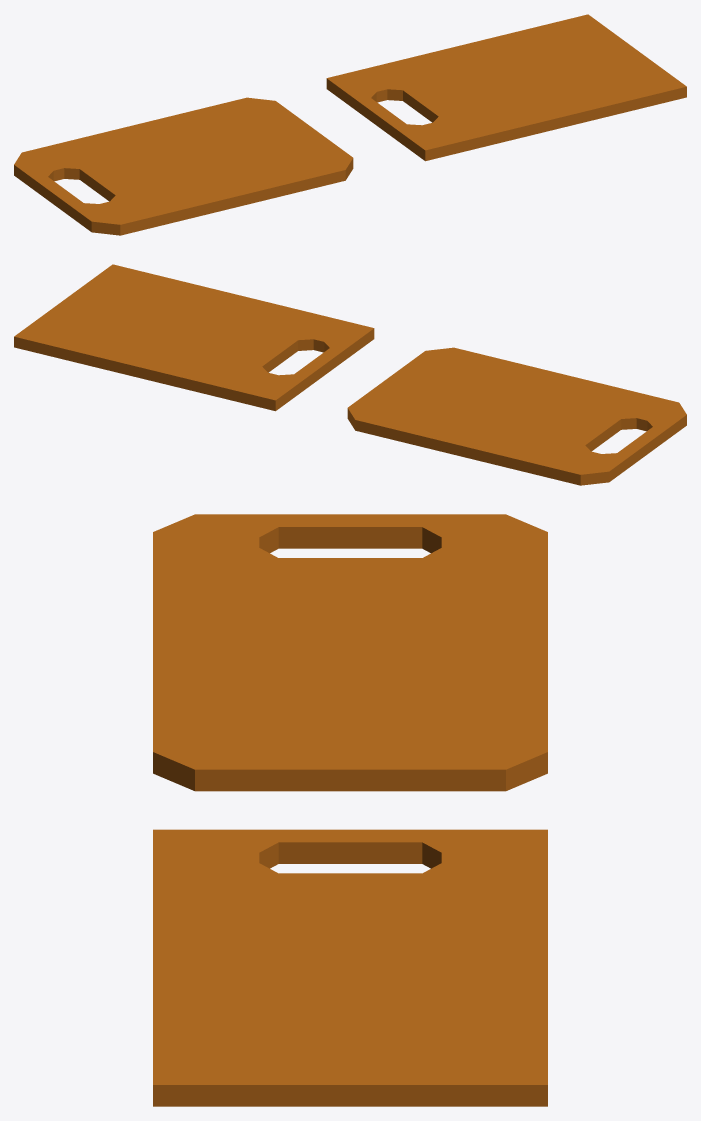
The model's file is chopping board.fbx.
The picture shows the model from 3 angles, top to bottom: view 1: azimuth 30°, elevation 25°; view 2: azimuth 150°, elevation 25°; view 3: azimuth 270°, elevation 25°; orthographic projection. The views are drawn at different scales.
Parts seen in each view (by area): view 1: Plane.002, Plane; view 2: Plane.002, Plane; view 3: Plane.002, Plane.
Part boxes in pixels (x1,y1,x2,y2): Plane.002: [326, 14, 686, 161]; Plane: [14, 97, 353, 235]; Plane.002: [14, 264, 374, 411]; Plane: [347, 347, 686, 485]; Plane.002: [153, 829, 547, 1106]; Plane: [153, 514, 547, 791].
Bounding box in the file's own units: 134 × 2.37 × 39.29.
